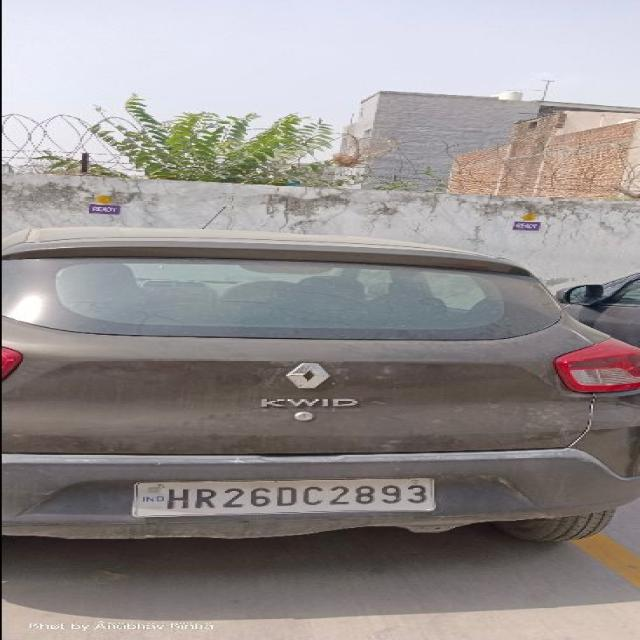license_plate: (129, 476, 436, 518)
